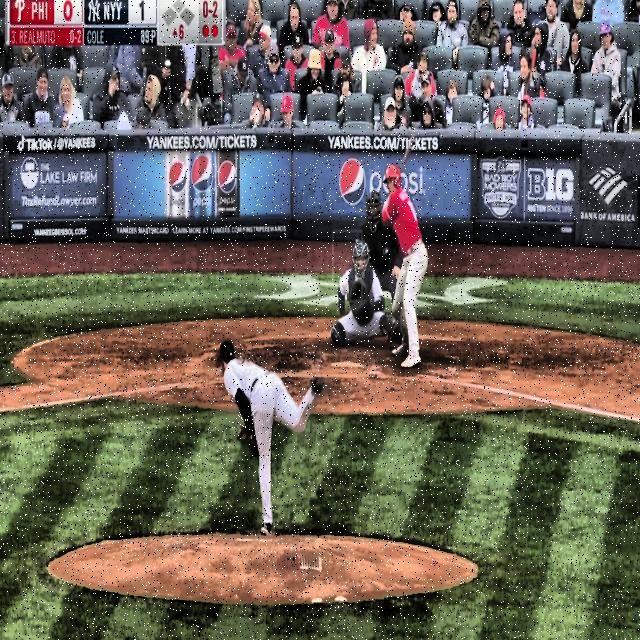baseball: (340, 278, 345, 288)
